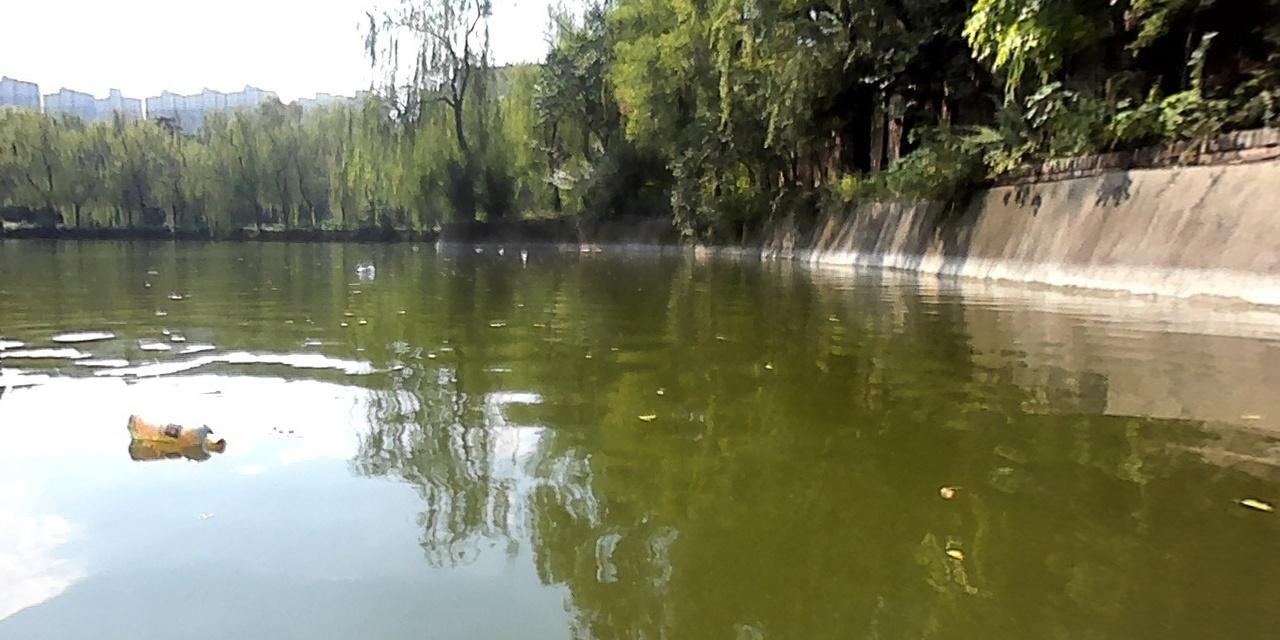bottle: (121, 406, 224, 452), (354, 260, 373, 273), (516, 246, 529, 258)
